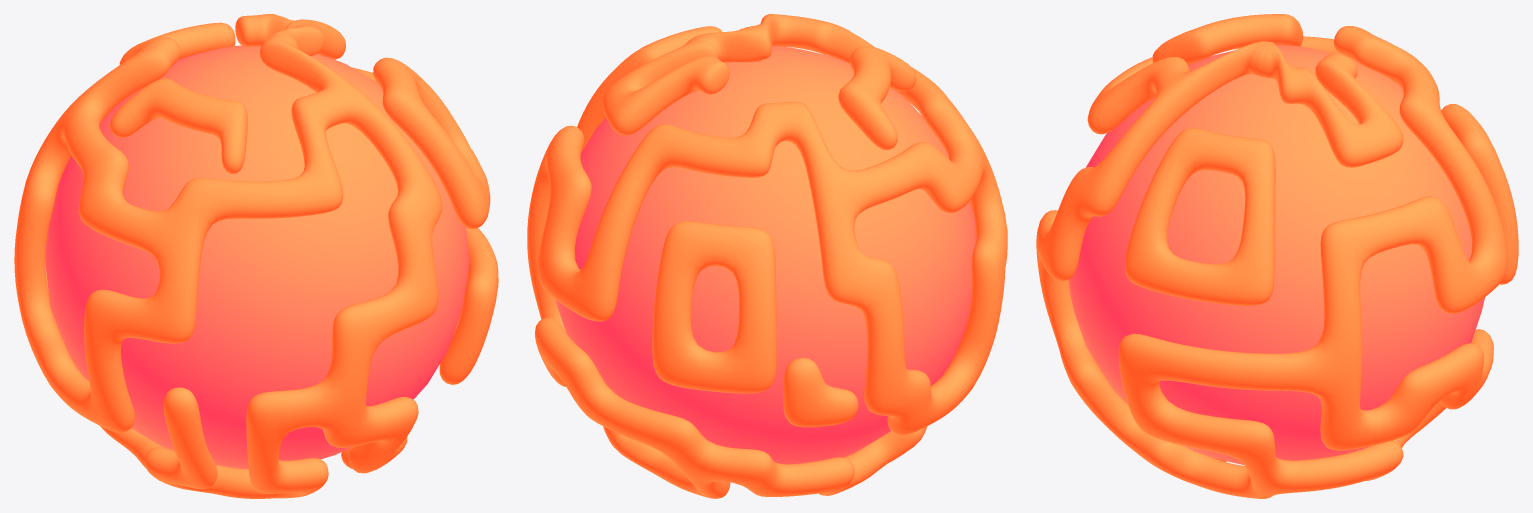
Rendered from Daire.fbx.
3 views of the same model, side by side, from view 1: azimuth 30°, elevation 25°; view 2: azimuth 150°, elevation 25°; view 3: azimuth 270°, elevation 25° (orthographic).
Parts seen in each view (by area): view 1: Sarmaşık.001, Daire; view 2: Sarmaşık.001, Daire; view 3: Sarmaşık.001, Daire.
Part boxes in pixels (x1=…): Sarmaşık.001: x1=14, y1=14, x2=498, y2=498; Daire: x1=45, y1=45, x2=469, y2=469; Sarmaşık.001: x1=527, y1=14, x2=1007, y2=498; Daire: x1=555, y1=46, x2=976, y2=464; Sarmaşık.001: x1=1036, y1=14, x2=1518, y2=498; Daire: x1=1068, y1=45, x2=1484, y2=464.
Size of the model in its own units: 223 by 225 by 228.
